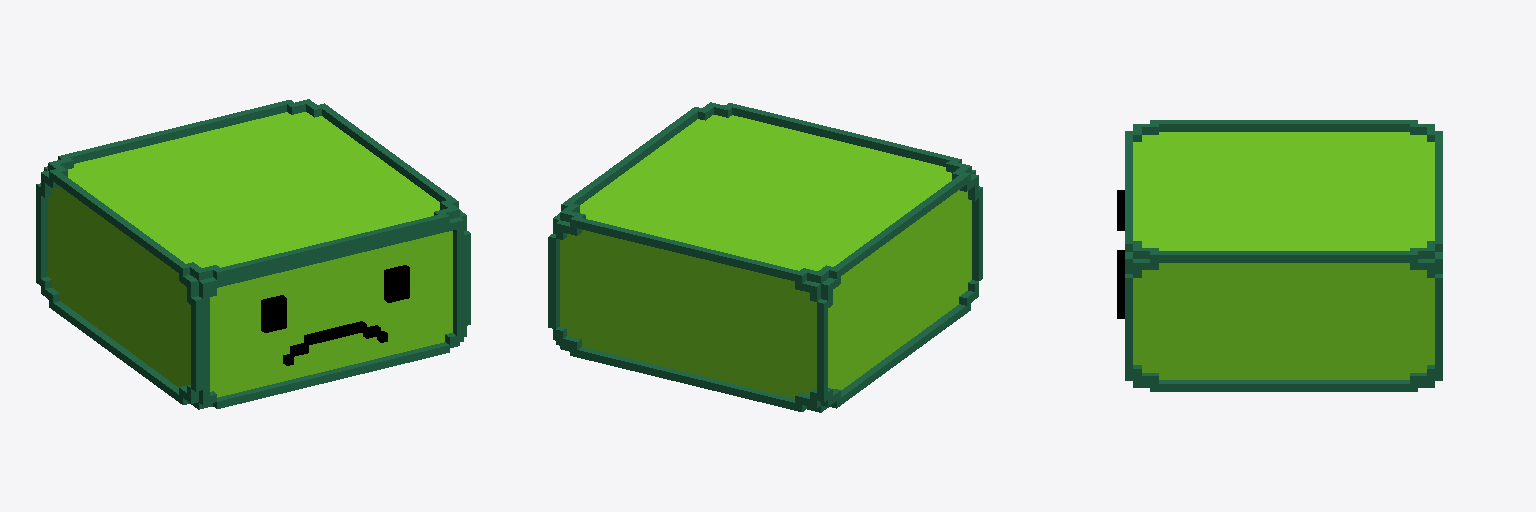
The picture shows the model from 3 angles: view 1: azimuth 30°, elevation 25°; view 2: azimuth 150°, elevation 25°; view 3: azimuth 270°, elevation 25°; orthographic projection.
Visible parts, largest first — view 1: object 1; view 2: object 1; view 3: object 1.
Part boxes in pixels (bbox=[...]): object 1: bbox=[36, 99, 470, 409]; object 1: bbox=[548, 102, 982, 412]; object 1: bbox=[1117, 120, 1442, 391].
Size of the model in its own units: 3.8 by 1.8 by 3.9.
1 materials, 1 textured.